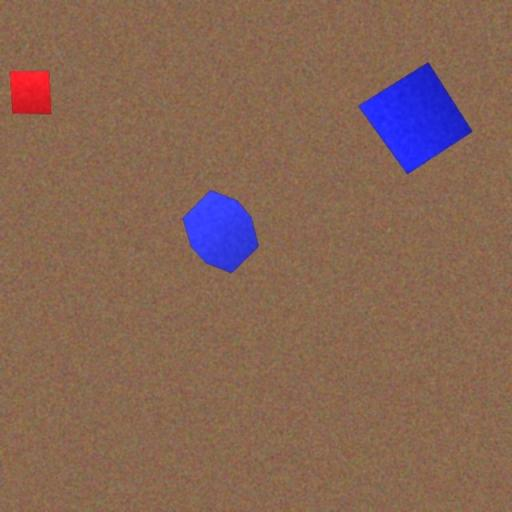BLUE_SQUARE: (358, 62, 474, 175)
RED_SQUARE: (10, 70, 52, 114)
